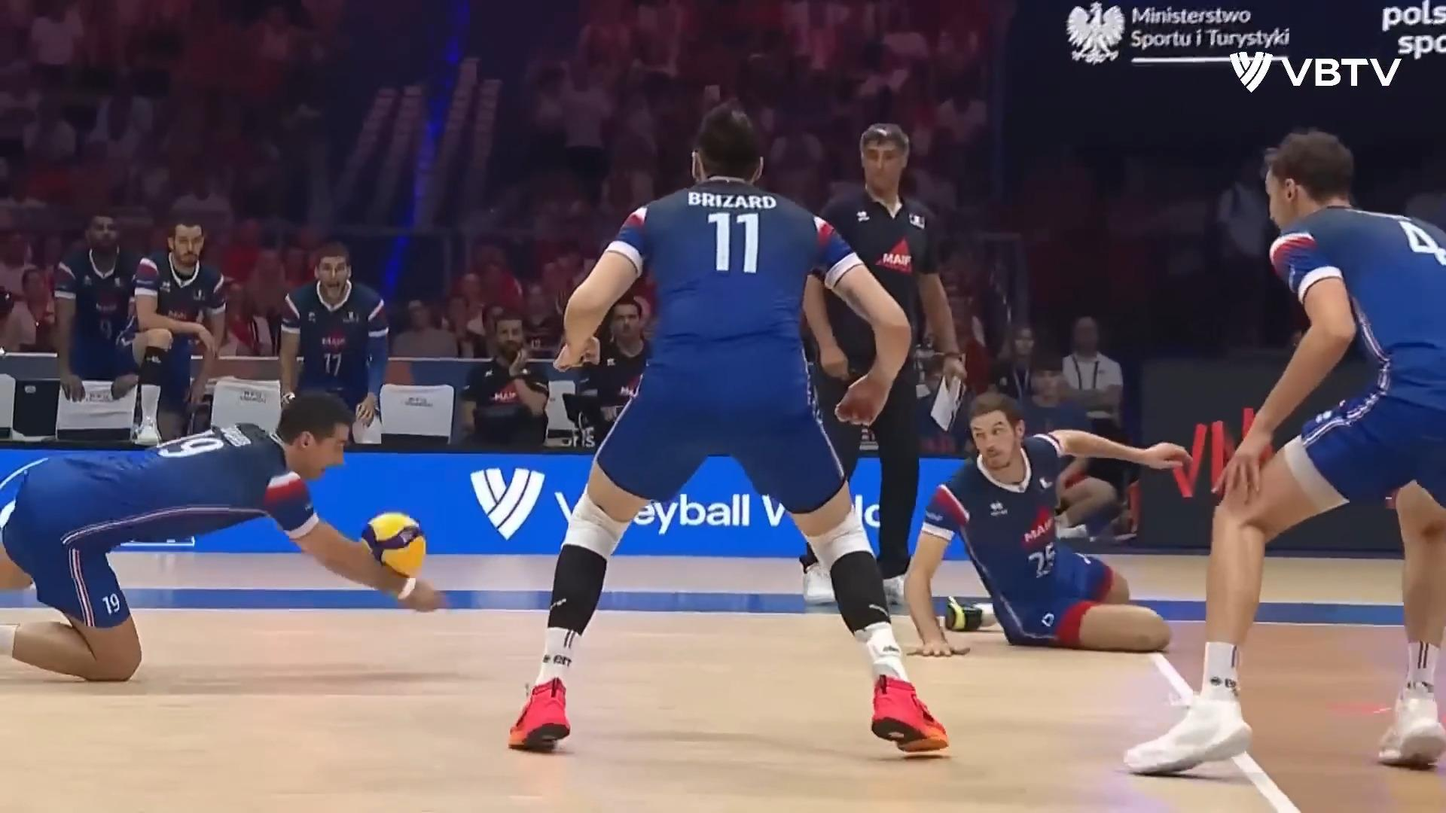ball: (358, 509, 435, 584)
